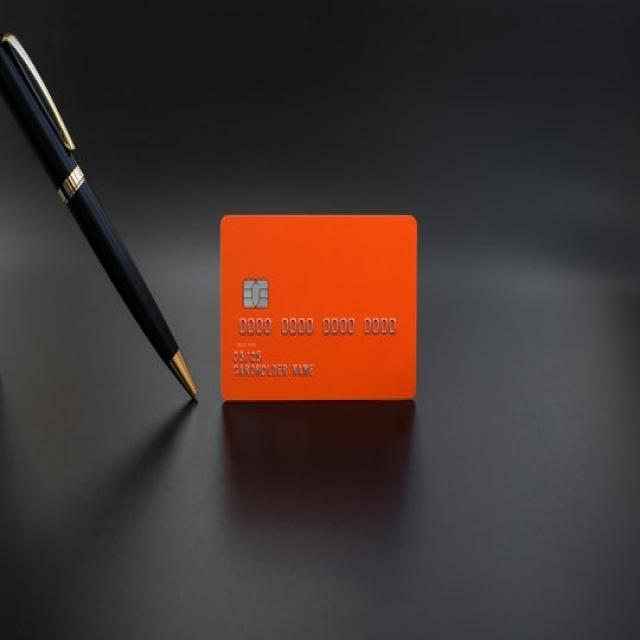payment_card: (218, 212, 418, 402)
